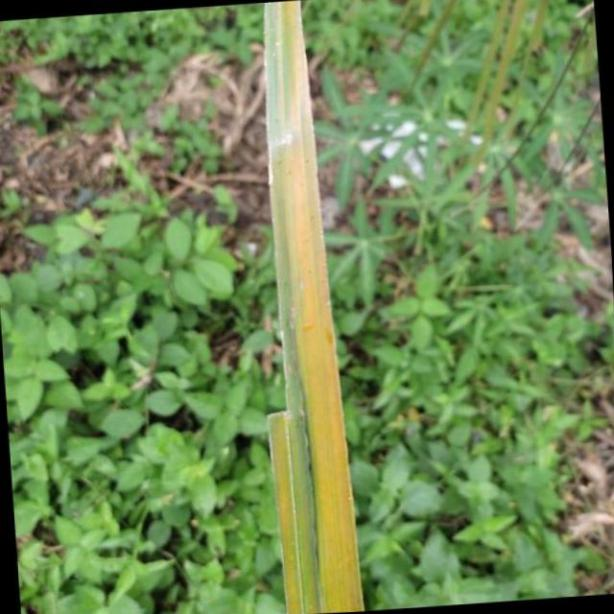Megnesium: (253, 0, 369, 614)
